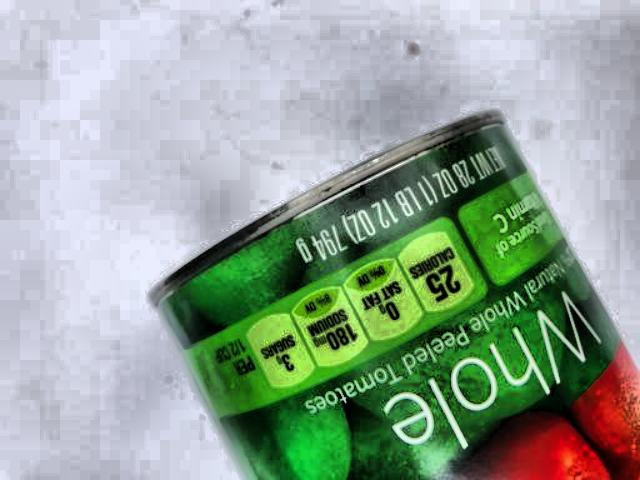Almennt: (80, 96, 640, 480)
